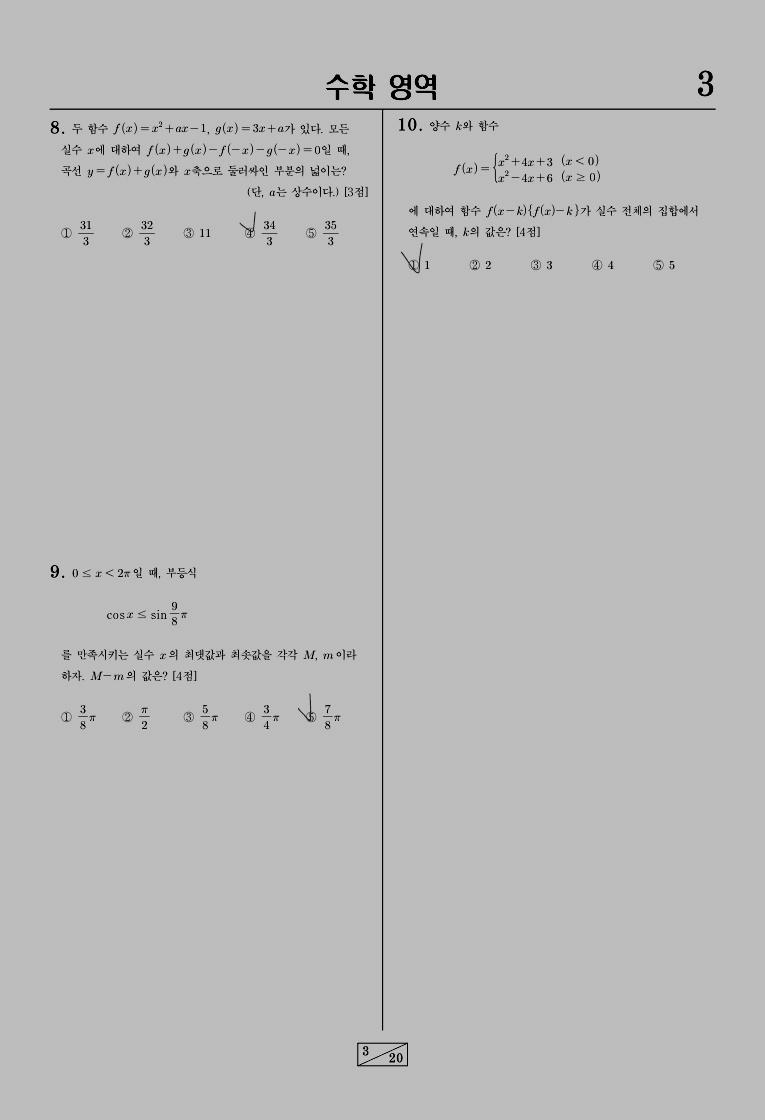question: (32, 555, 372, 745), (388, 109, 716, 291), (32, 106, 378, 259)
